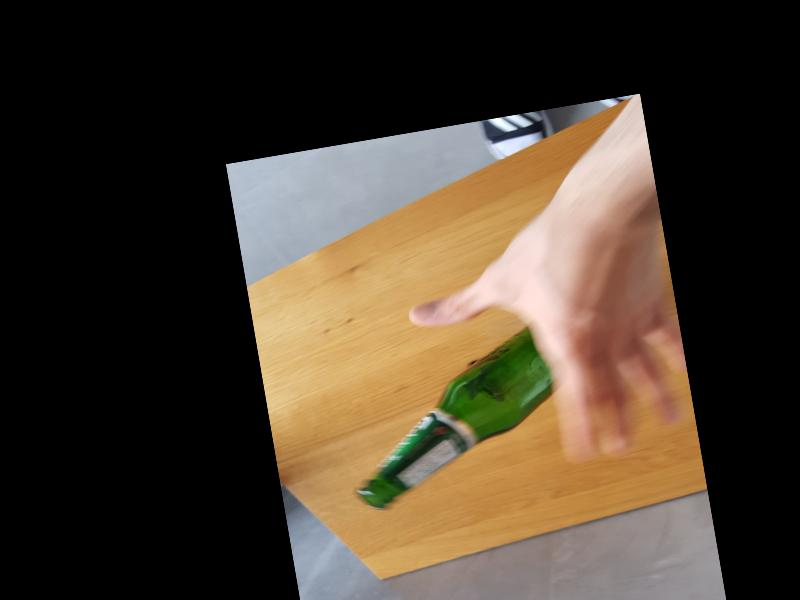Beer: (333, 322, 568, 513)
